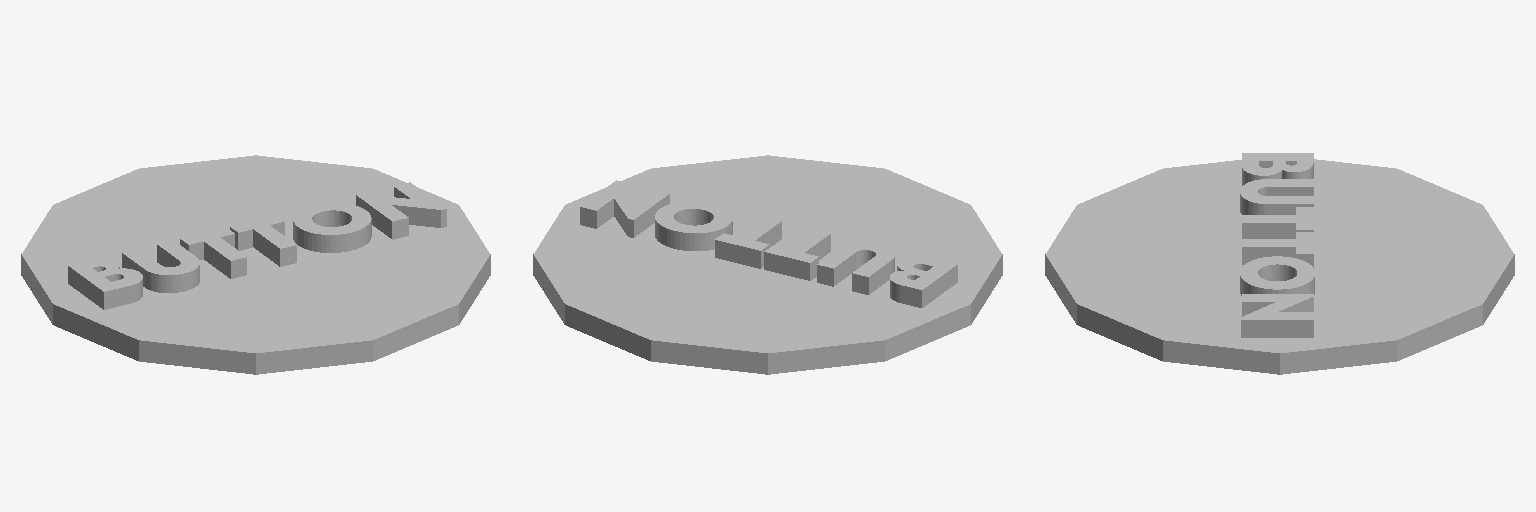
File: floor_button.obj
3 views of the same model, side by side, from view 1: azimuth 30°, elevation 25°; view 2: azimuth 150°, elevation 25°; view 3: azimuth 270°, elevation 25° (orthographic).
Parts seen in each view (by area): view 1: Circle_Circle.001, Text; view 2: Circle_Circle.001, Text; view 3: Circle_Circle.001, Text.
Boxes of the visible parts, box(x1,y1,x2,y2) form: Circle_Circle.001: box(21, 155, 490, 374); Text: box(68, 182, 446, 309); Circle_Circle.001: box(533, 155, 1002, 374); Text: box(580, 180, 957, 307); Circle_Circle.001: box(1045, 159, 1514, 374); Text: box(1240, 153, 1314, 337).
Size of the model in its own units: 1 by 0.0926 by 1.